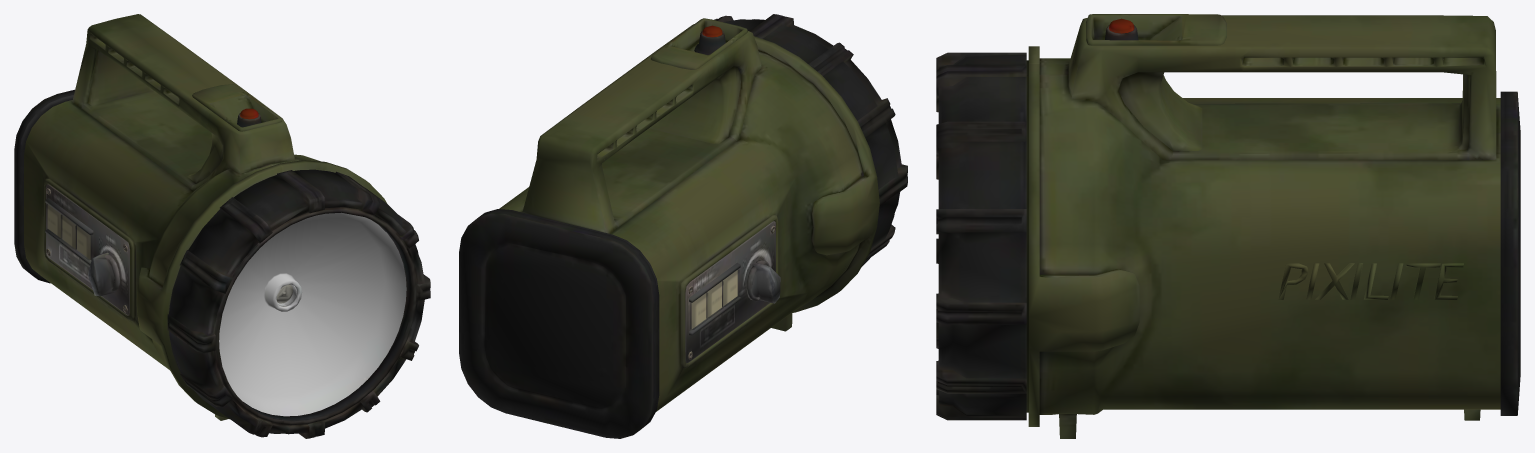
File: portable_searchlight.glb
3 renders of one model, left to right at view 1: azimuth 30°, elevation 25°; view 2: azimuth 150°, elevation 25°; view 3: azimuth 270°, elevation 25°, orthographic. The views are drawn at different scales.
Visible parts, largest first — view 1: portable_searchlight; view 2: portable_searchlight; view 3: portable_searchlight.
Part boxes in pixels (x1,y1,x2,y2): portable_searchlight: [14, 14, 430, 438]; portable_searchlight: [459, 14, 907, 438]; portable_searchlight: [936, 14, 1520, 438].
Size of the model in its own units: 0.1653 by 0.1854 by 0.2534.
2 materials, 2 textured.
